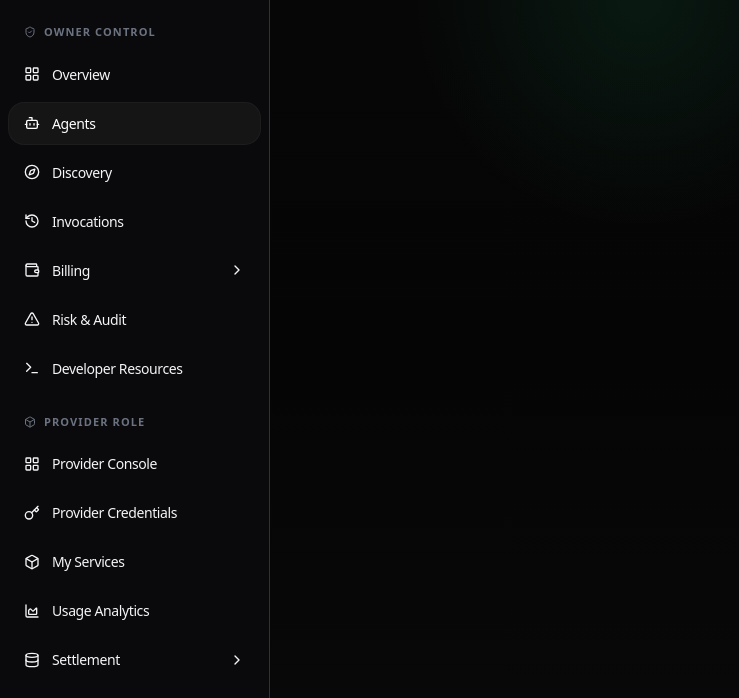
DashboardSidebar › shows consumer withdraw under billing instead of account
Step 1. Click the button "Billing" → (134, 270), box [8, 248, 261, 292]
(page scrolled)
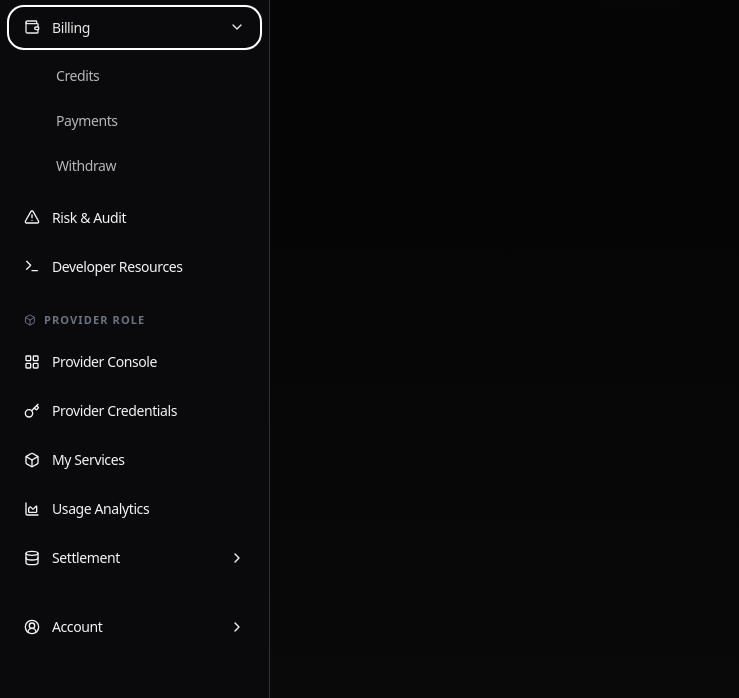
Step 2. Click the button "Account" → (134, 626), box [8, 605, 261, 648]
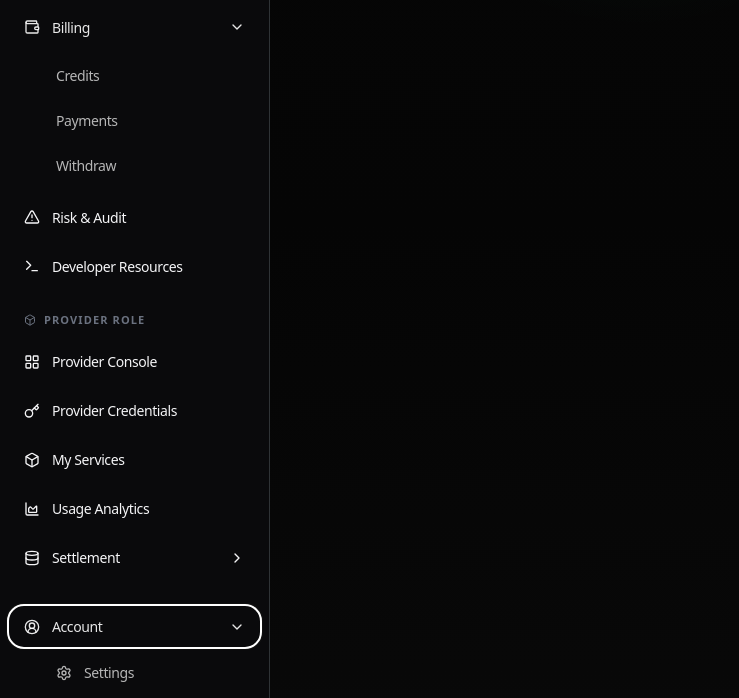
Expected: the link "Settings" is shown, [56, 663, 134, 682]
